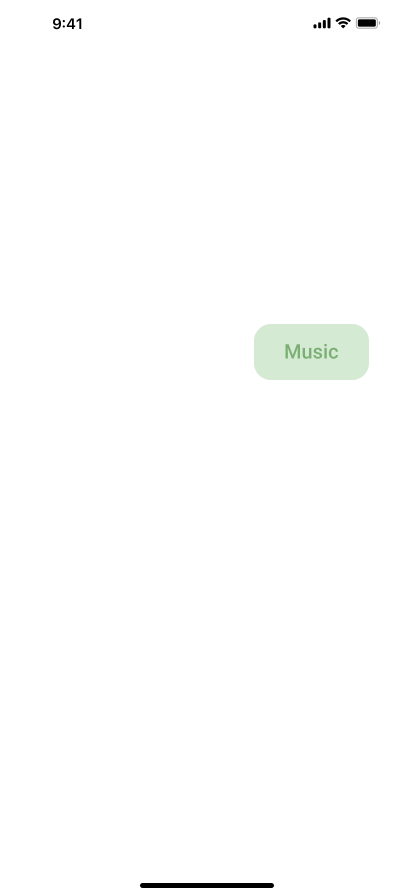Buttons: (254, 324, 377, 380)
Home Indicator: (0, 862, 414, 896)
Status Bar: (0, 0, 414, 44)
